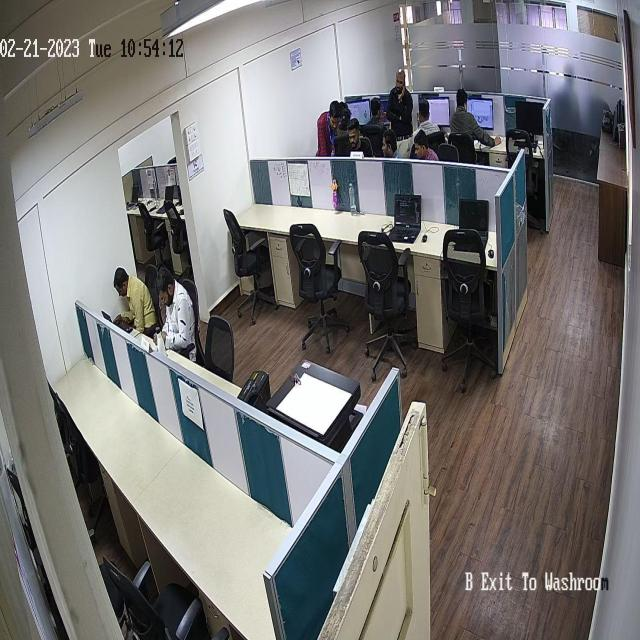chair: (440, 224, 500, 392), (356, 230, 419, 383), (293, 217, 348, 352), (223, 202, 278, 318), (504, 128, 544, 234), (163, 196, 196, 280), (203, 308, 236, 386), (137, 202, 168, 268)
keyboard: (511, 131, 541, 151)
laptop: (452, 199, 492, 256), (386, 190, 423, 247), (101, 300, 124, 332), (158, 185, 174, 217), (127, 183, 142, 211)
monitor: (466, 96, 496, 130), (516, 99, 543, 136), (430, 96, 451, 130)
person: (155, 263, 197, 365), (450, 77, 500, 150), (117, 261, 158, 331), (388, 67, 413, 153), (316, 99, 341, 156), (415, 99, 442, 138), (381, 126, 408, 158), (413, 129, 436, 162), (345, 116, 363, 152), (364, 103, 381, 138), (366, 98, 384, 125)
phone: (149, 202, 158, 216)
